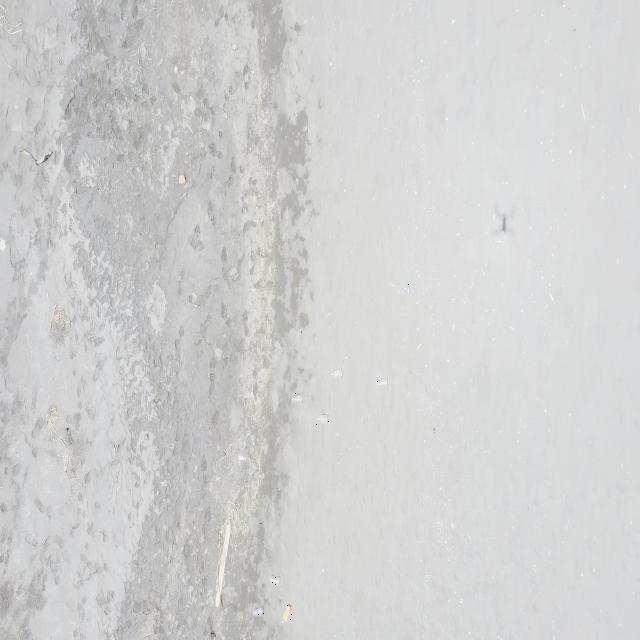plastic-bottle: (282, 605, 292, 624)
takeaway-cup: (316, 412, 330, 425), (331, 367, 343, 381), (291, 393, 304, 405), (252, 606, 265, 618), (398, 284, 411, 296), (376, 377, 388, 388), (270, 574, 280, 585)
